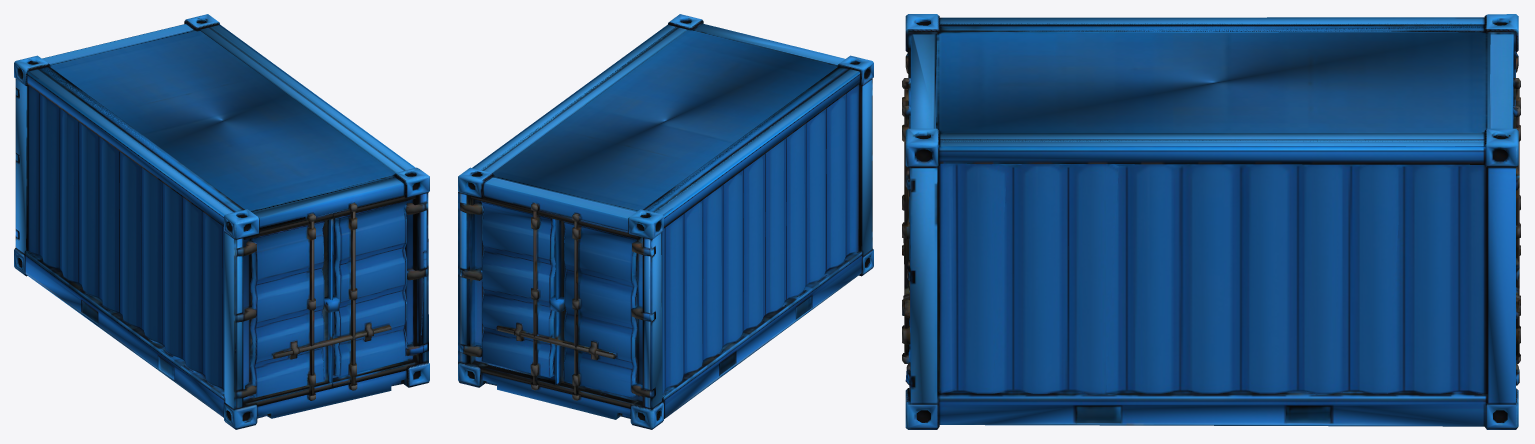
The model's file is container.glb.
3 views of the same model, side by side, from view 1: azimuth 30°, elevation 25°; view 2: azimuth 150°, elevation 25°; view 3: azimuth 270°, elevation 25° (orthographic). The views are drawn at different scales.
Visible parts, largest first — view 1: tripo_node_636ba7a6-4317-4385-9db4-c9999eff4eda; view 2: tripo_node_636ba7a6-4317-4385-9db4-c9999eff4eda; view 3: tripo_node_636ba7a6-4317-4385-9db4-c9999eff4eda.
Boxes of the visible parts, bbox=[...] form: tripo_node_636ba7a6-4317-4385-9db4-c9999eff4eda: bbox=[14, 14, 429, 429]; tripo_node_636ba7a6-4317-4385-9db4-c9999eff4eda: bbox=[458, 14, 873, 429]; tripo_node_636ba7a6-4317-4385-9db4-c9999eff4eda: bbox=[902, 14, 1520, 429].
Size of the model in its own units: 2.66 by 2.7 by 5.29.
Materials: 1 (1 with a texture image).
